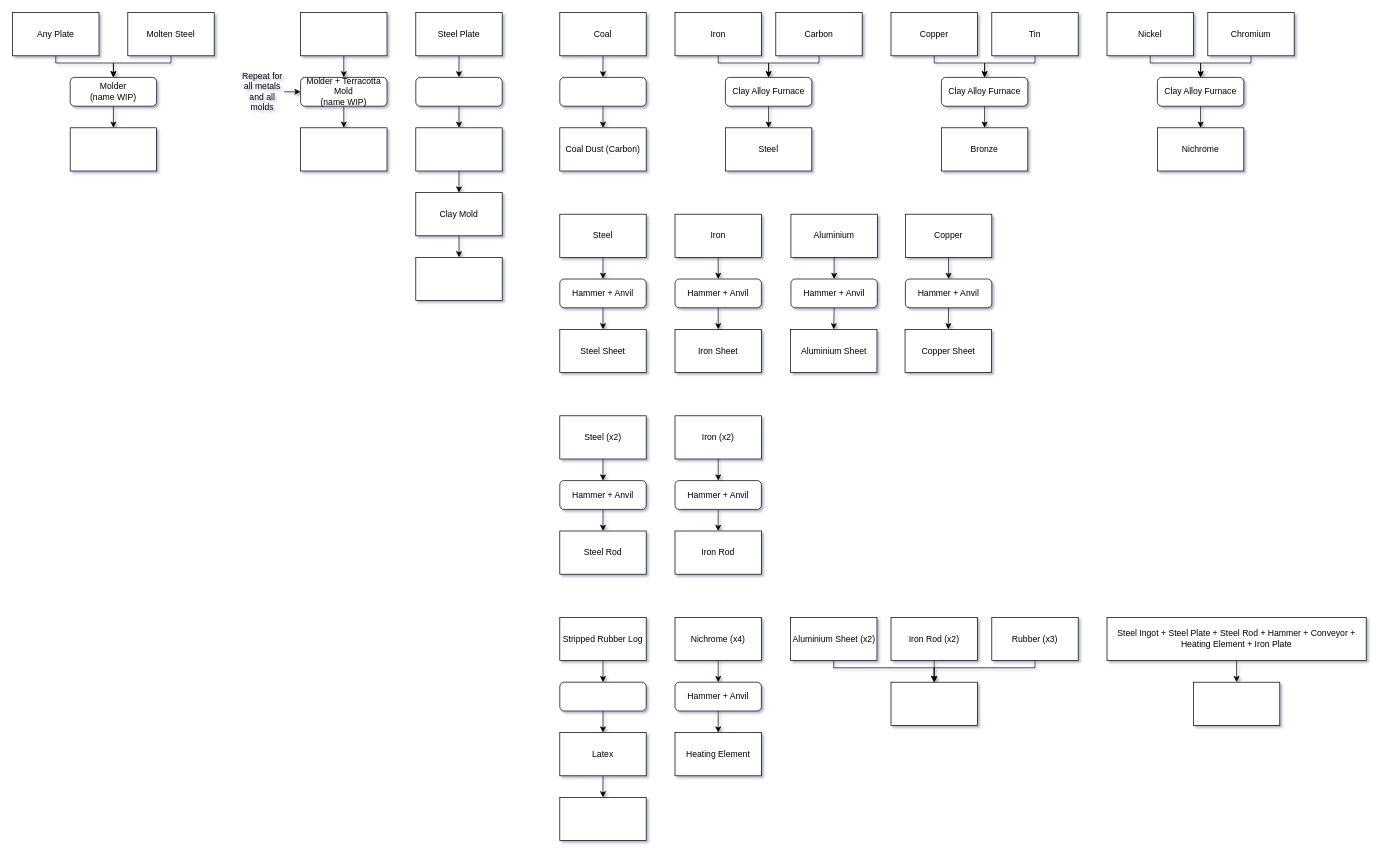
This 1383x858 diagram has some shape labels left out. Each missing label, with the centre of its shape:
"Conveyor" belongs at point (933, 703).
"Hammer" belongs at point (602, 91).
"Metal XYZ" belongs at point (343, 149).
"Molder + Clay (name WIP)" belongs at point (458, 91).
"Molten Metal" belongs at point (343, 34).
"Part Press (name WIP)" belongs at point (1236, 703).
"Rubber" belongs at point (602, 819).
"Steel Mold" belongs at point (113, 149).
"Take out Steel Plate" belongs at point (458, 149).
"Terracotta Mold" belongs at point (458, 279).
"Tree Tap" belongs at point (602, 696).
